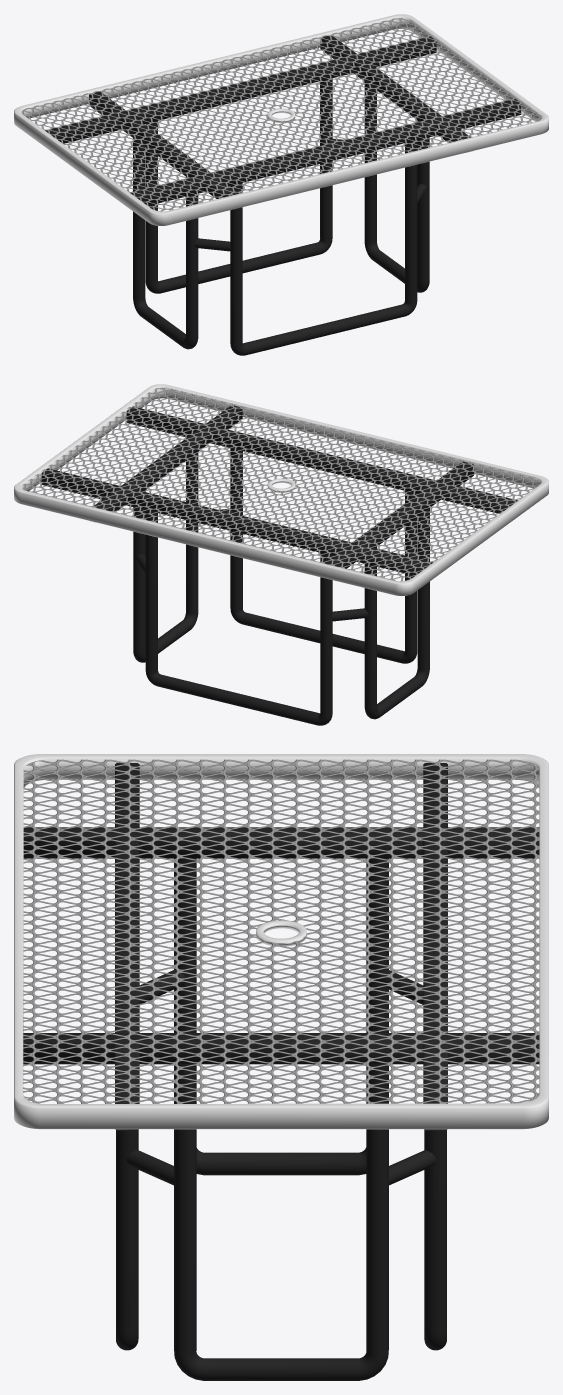
File: Outside Table.glb
The picture shows the model from 3 angles, top to bottom: view 1: azimuth 30°, elevation 25°; view 2: azimuth 150°, elevation 25°; view 3: azimuth 270°, elevation 25°; orthographic projection. The views are drawn at different scales.
Parts seen in each view (by area): view 1: Cube.001; view 2: Cube.001; view 3: Cube.001.
Boxes of the visible parts, left/top/right/bottom form: Cube.001: left=14, top=14, right=548, bottom=355; Cube.001: left=14, top=384, right=548, bottom=725; Cube.001: left=14, top=754, right=548, bottom=1380.
Size of the model in its own units: 11.39 by 5.21 by 7.28.
Materials: 3 (1 with a texture image).
